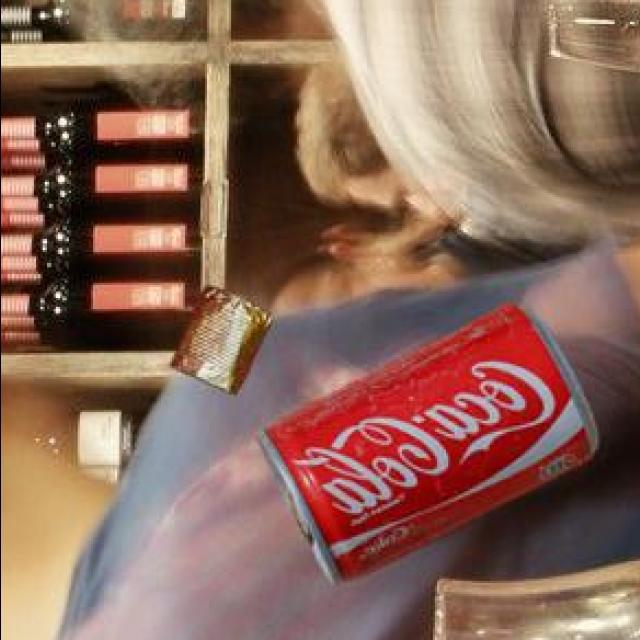logam: (253, 299, 593, 582), (165, 284, 266, 391)
